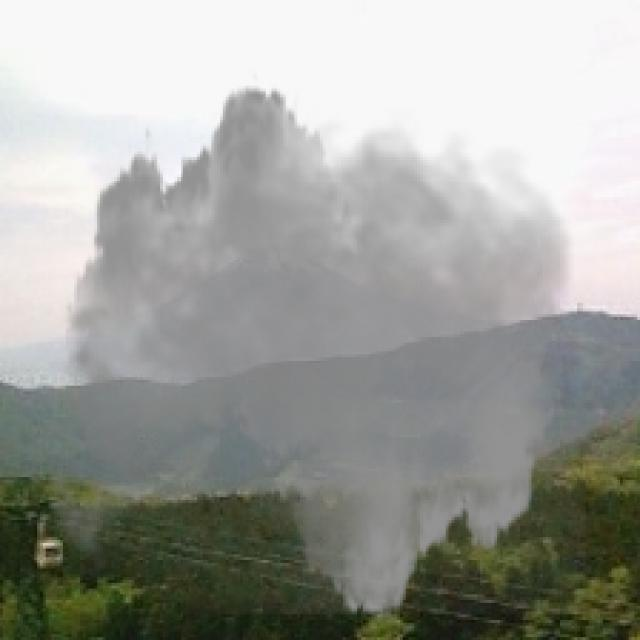smoke: (28, 69, 586, 634)
